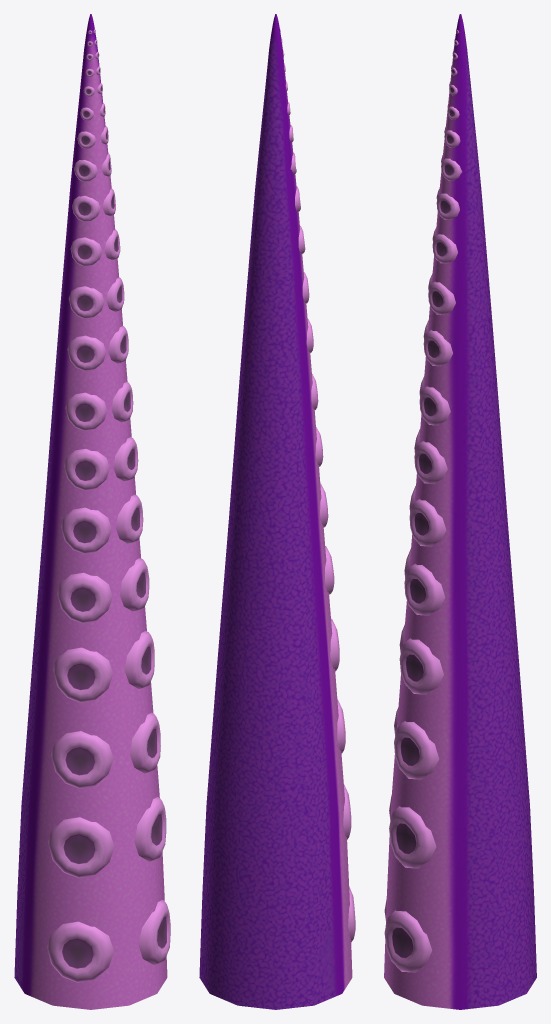
The model's file is kraken.fbx.
3 views of the same model, side by side, from view 1: azimuth 30°, elevation 25°; view 2: azimuth 150°, elevation 25°; view 3: azimuth 270°, elevation 25° (orthographic).
Visible parts, largest first — view 1: kraken; view 2: kraken; view 3: kraken.
Boxes of the visible parts, <box> form: kraken: <box>14,14,170,1009</box>; kraken: <box>199,14,355,1009</box>; kraken: <box>384,14,536,1009</box>.
Bounding box in the file's own units: 242 × 1682 × 242.
